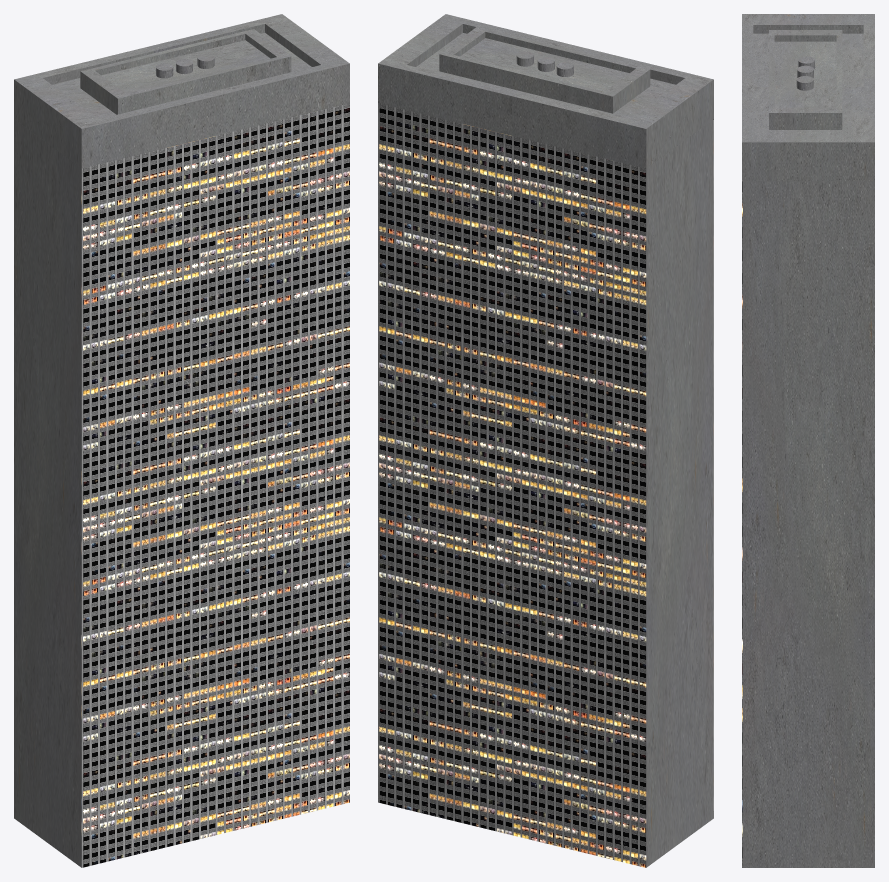
Rendered from ny-office-building-optimized.glb.
3 renders of one model, left to right at view 1: azimuth 30°, elevation 25°; view 2: azimuth 150°, elevation 25°; view 3: azimuth 270°, elevation 25°, orthographic.
Visible parts, largest first — view 1: Cube.008; view 2: Cube.008; view 3: Cube.008.
Part boxes in pixels (x1,y1,x2,y2): Cube.008: (14, 14, 349, 867); Cube.008: (378, 14, 713, 867); Cube.008: (742, 14, 874, 867).
Bounding box in the file's own units: 22.55 × 60.16 × 9.87.
1 material, 1 textured.
